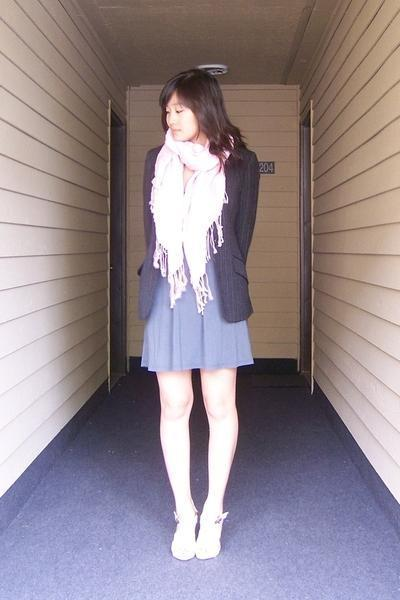jacket: (127, 146, 270, 322)
shoe: (175, 508, 221, 558)
skirt: (141, 253, 251, 378)
